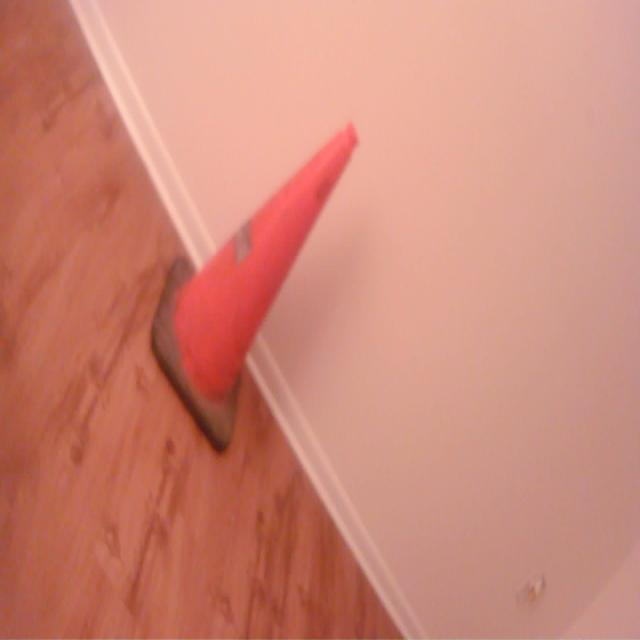traffic cone: (149, 116, 367, 458)
